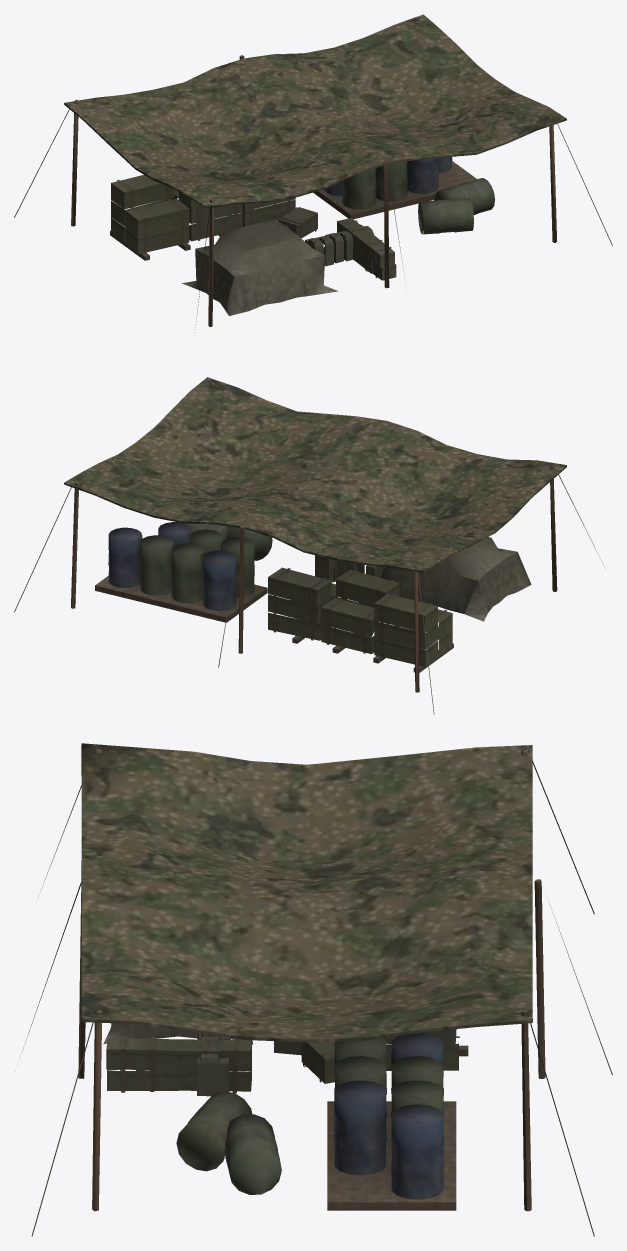
The model's file is supply_dump_lod1.glb.
3 renders of one model, top to bottom at view 1: azimuth 30°, elevation 25°; view 2: azimuth 150°, elevation 25°; view 3: azimuth 270°, elevation 25°, orthographic. The views are drawn at different scales.
Parts seen in each view (by area): view 1: dump; view 2: dump; view 3: dump.
Boxes of the visible parts, <box> form: dump: <box>14,14,612,329</box>; dump: <box>14,377,605,714</box>; dump: <box>23,743,612,1236</box>.
Bounding box in the file's own units: 8.3 × 2.38 × 6.51.
1 material, 1 textured.
